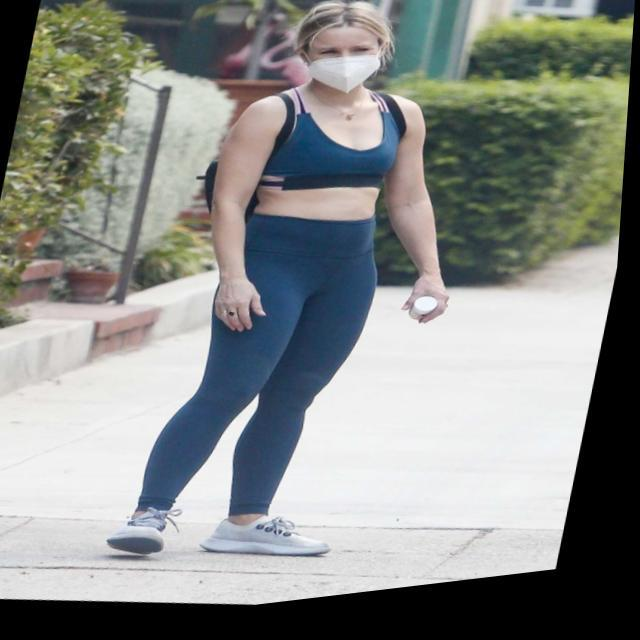Nonhelmet: (289, 1, 398, 96)
